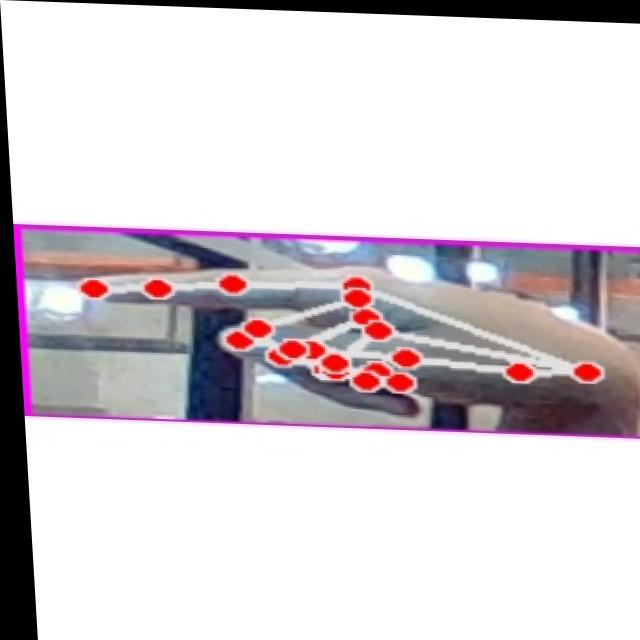G: (39, 238, 640, 427)
